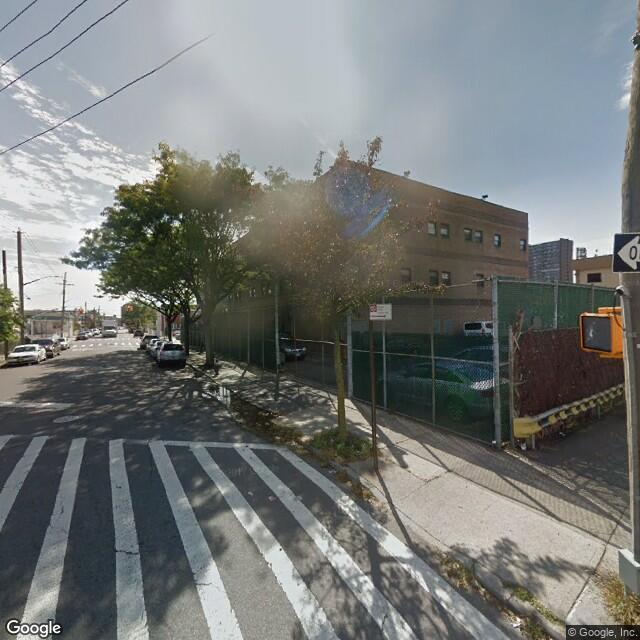litter: (503, 606, 531, 637), (514, 440, 533, 462), (326, 460, 343, 478)
